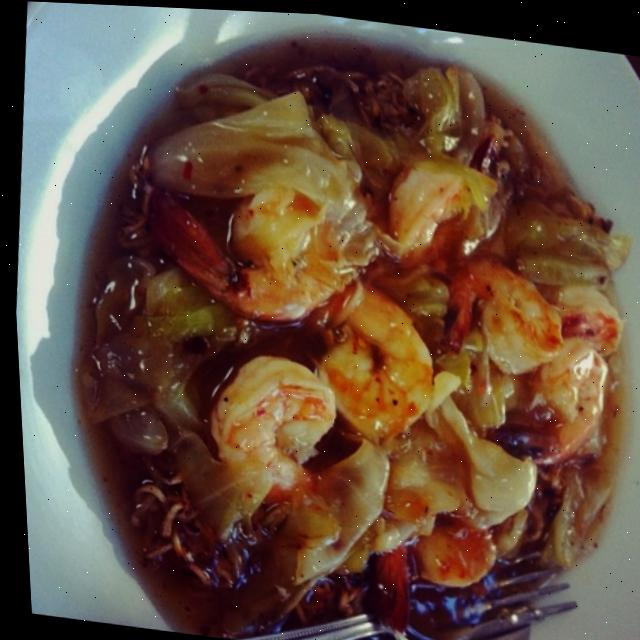面条主食: (44, 15, 640, 640)
